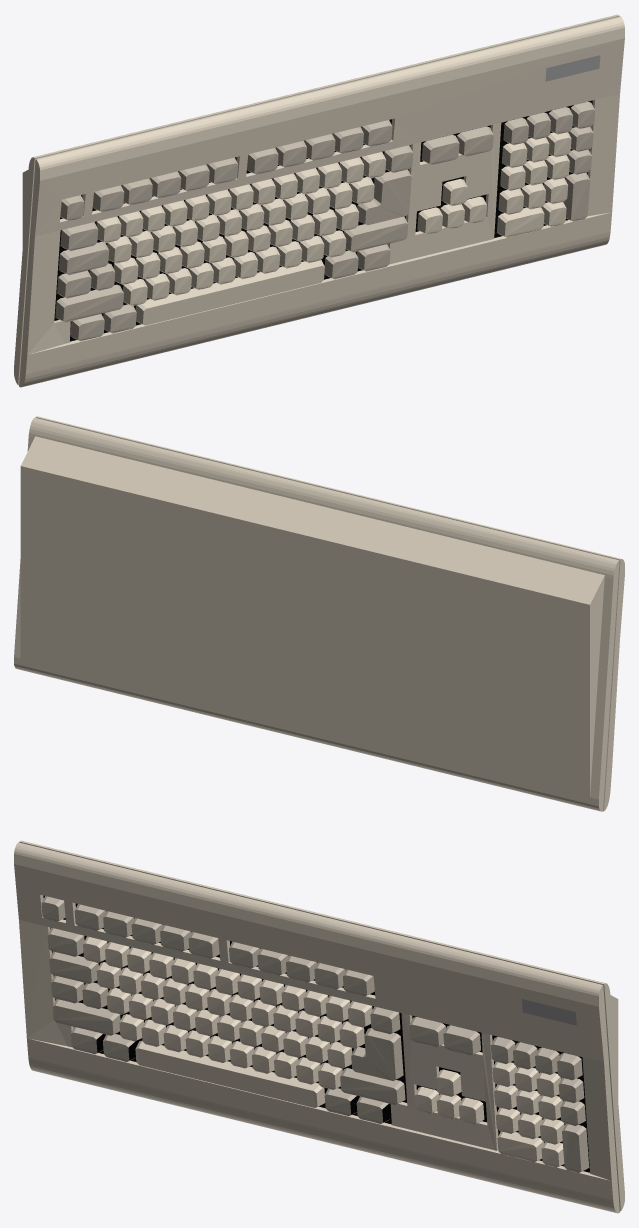
File: KEYBORD3.glb
The picture shows the model from 3 angles, top to bottom: view 1: azimuth 30°, elevation 25°; view 2: azimuth 150°, elevation 25°; view 3: azimuth 330°, elevation 25°; orthographic projection.
Visible parts, largest first — view 1: _0; view 2: _0; view 3: _0.
Part boxes in pixels (x1=…): _0: x1=14, y1=14, x2=624, y2=387; _0: x1=14, y1=416, x2=624, y2=811; _0: x1=14, y1=840, x2=624, y2=1213.
Bounding box in the file's own units: 7.94 × 3.11 × 0.6162.
